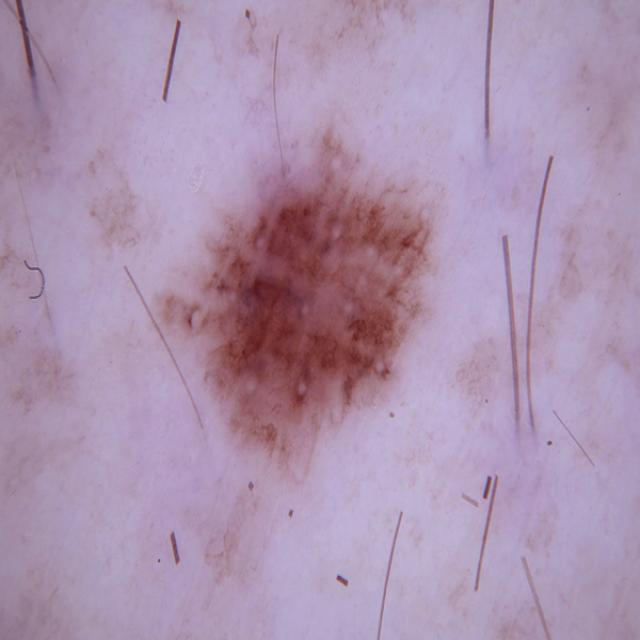Skin-Cancer Pigmented benign keratosis: (100, 59, 581, 560)
